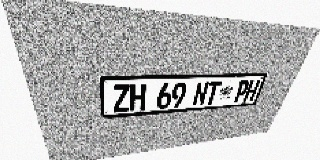6: (156, 83, 173, 109)
9: (170, 82, 188, 108)
H: (130, 84, 146, 111), (243, 80, 261, 102)
N: (192, 81, 210, 106)
P: (232, 80, 251, 103)
T: (204, 81, 222, 105)
Z: (112, 84, 129, 113)
